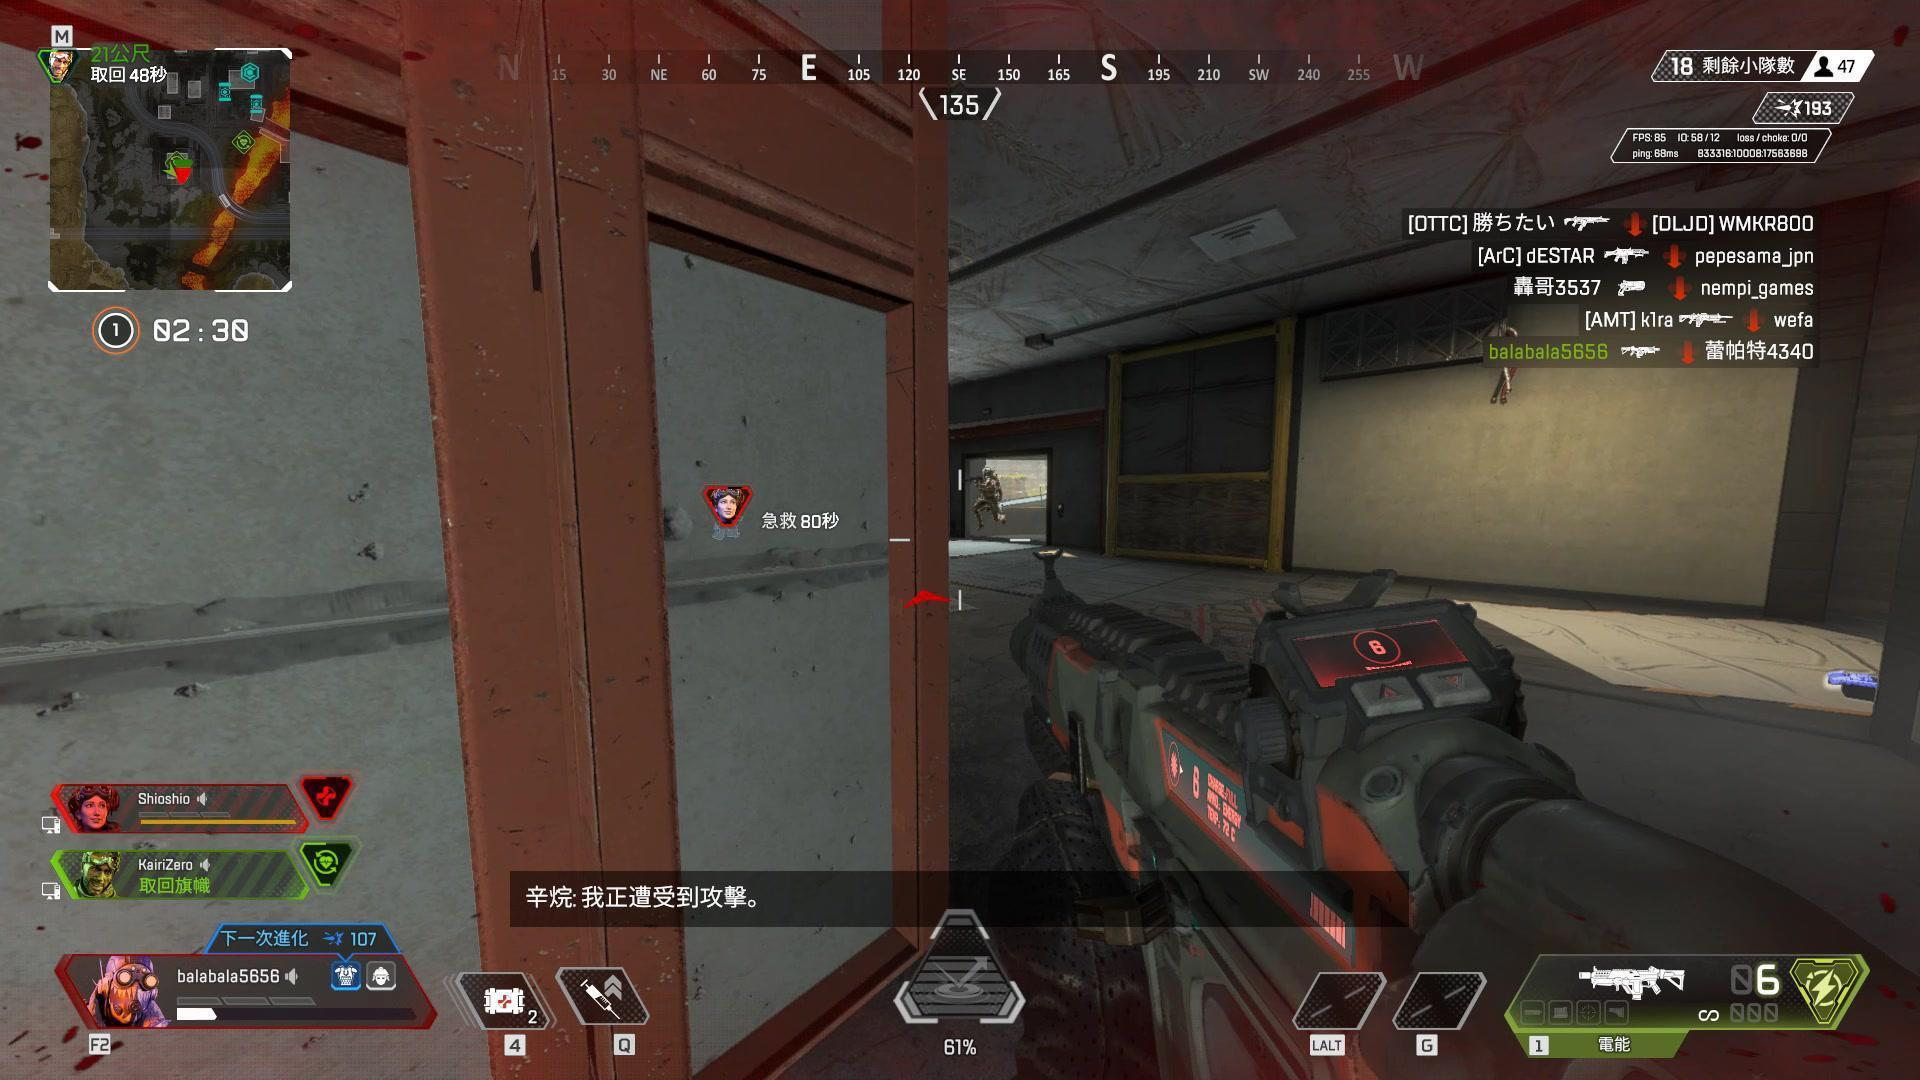avatar: (969, 466, 1008, 532)
